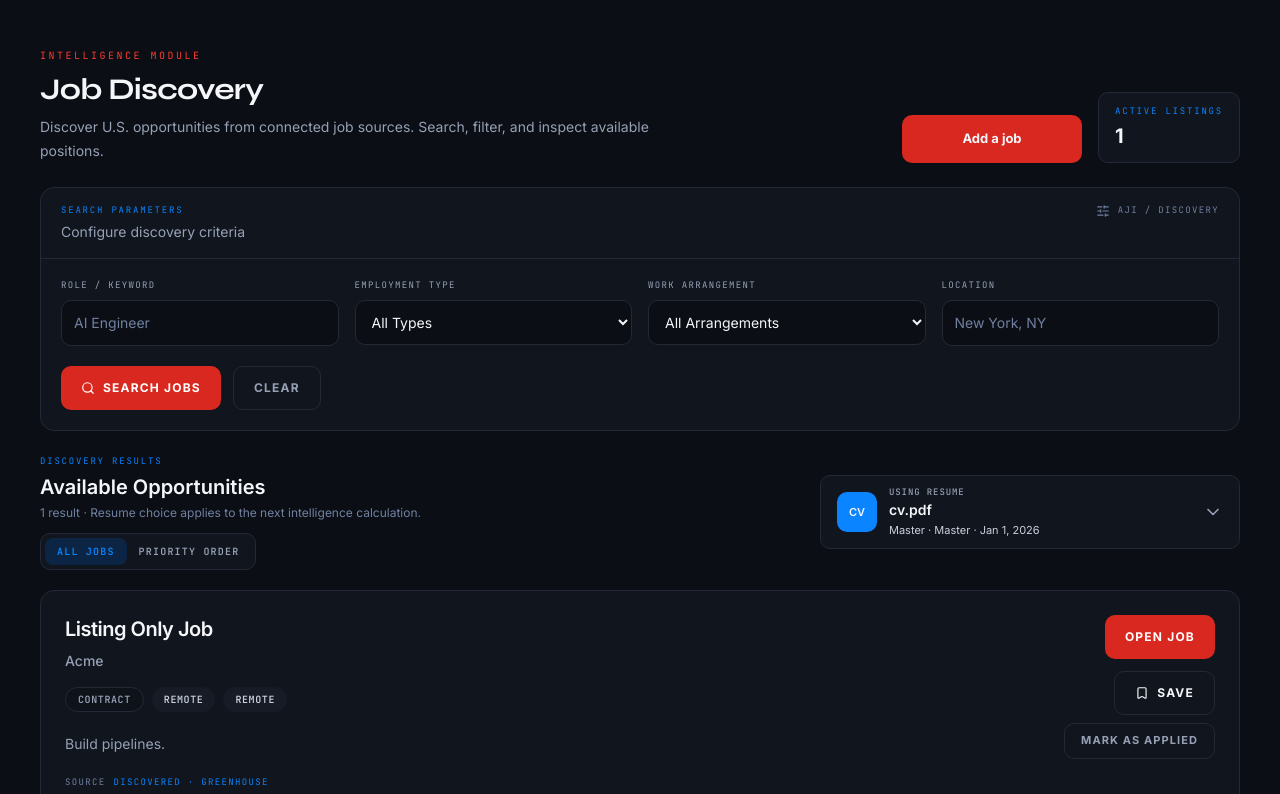
Test case: Jobs page — Priority view (AJI-025) › shows prioritized jobs pinned to the resume version the selector shows
Check: the heading "Listing Only Job" is shown, box left=65, top=616, right=213, bottom=640
Click the button "Priority order" at (189, 551), box left=127, top=538, right=251, bottom=564
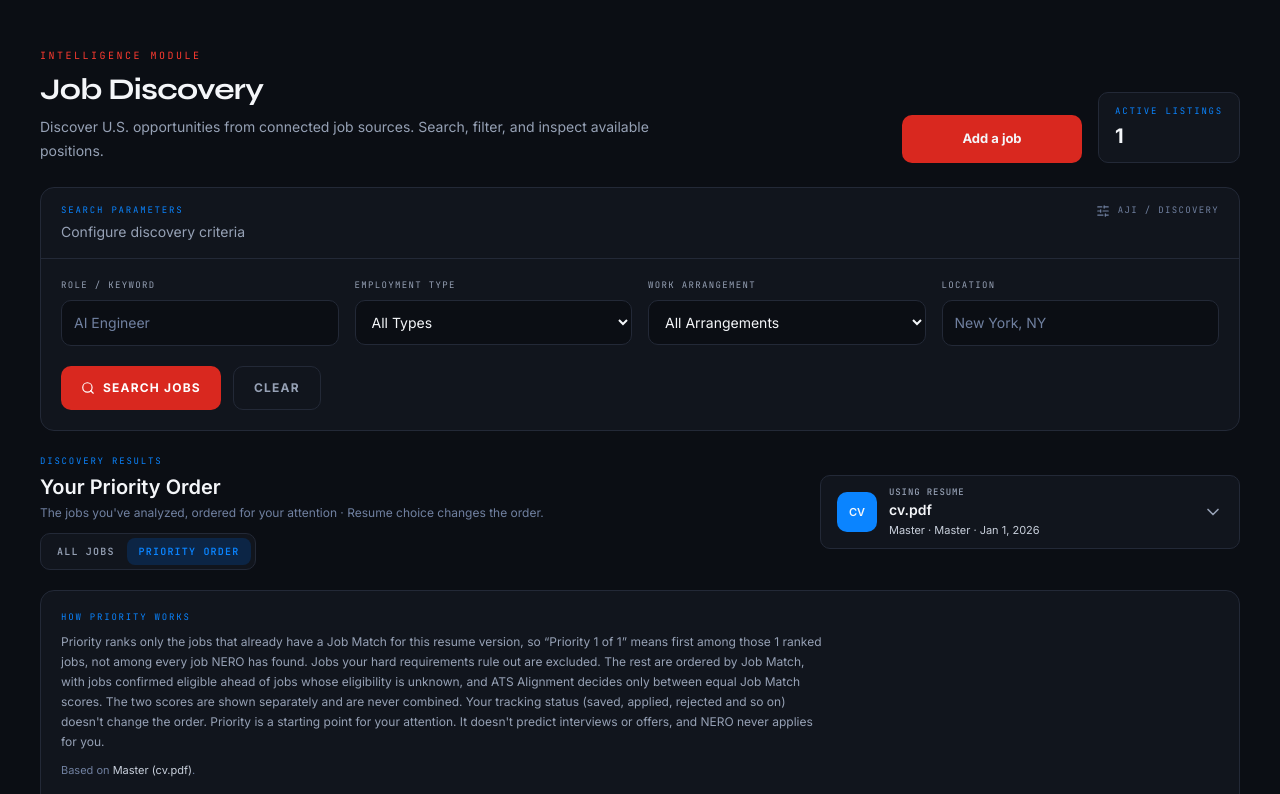
Check: the text "Master (cv.pdf)" is shown, box left=113, top=763, right=192, bottom=777
Check: the heading "Listing Only Job" is gone
